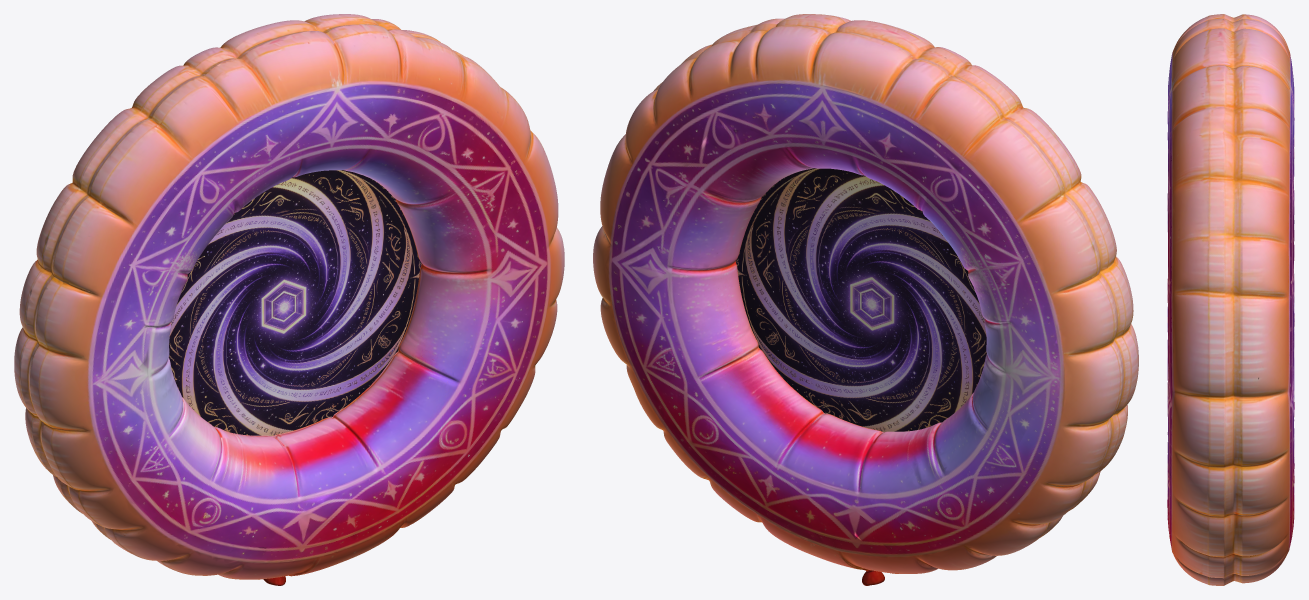
Rendered from 传送门动画.glb.
3 renders of one model, left to right at view 1: azimuth 30°, elevation 25°; view 2: azimuth 150°, elevation 25°; view 3: azimuth 270°, elevation 25°, orthographic. The views are drawn at different scales.
Parts seen in each view (by area): view 1: node_0, 空物体.001; view 2: node_0, 空物体.001; view 3: node_0.
Boxes of the visible parts, left/top/right/bottom form: node_0: left=14, top=14, right=564, bottom=585; 空物体.001: left=169, top=170, right=421, bottom=436; node_0: left=593, top=14, right=1138, bottom=585; 空物体.001: left=735, top=168, right=986, bottom=432; node_0: left=1167, top=14, right=1294, bottom=585.
Size of the model in its own units: 1.19 by 1.19 by 0.2566.
2 materials, 2 textured.
